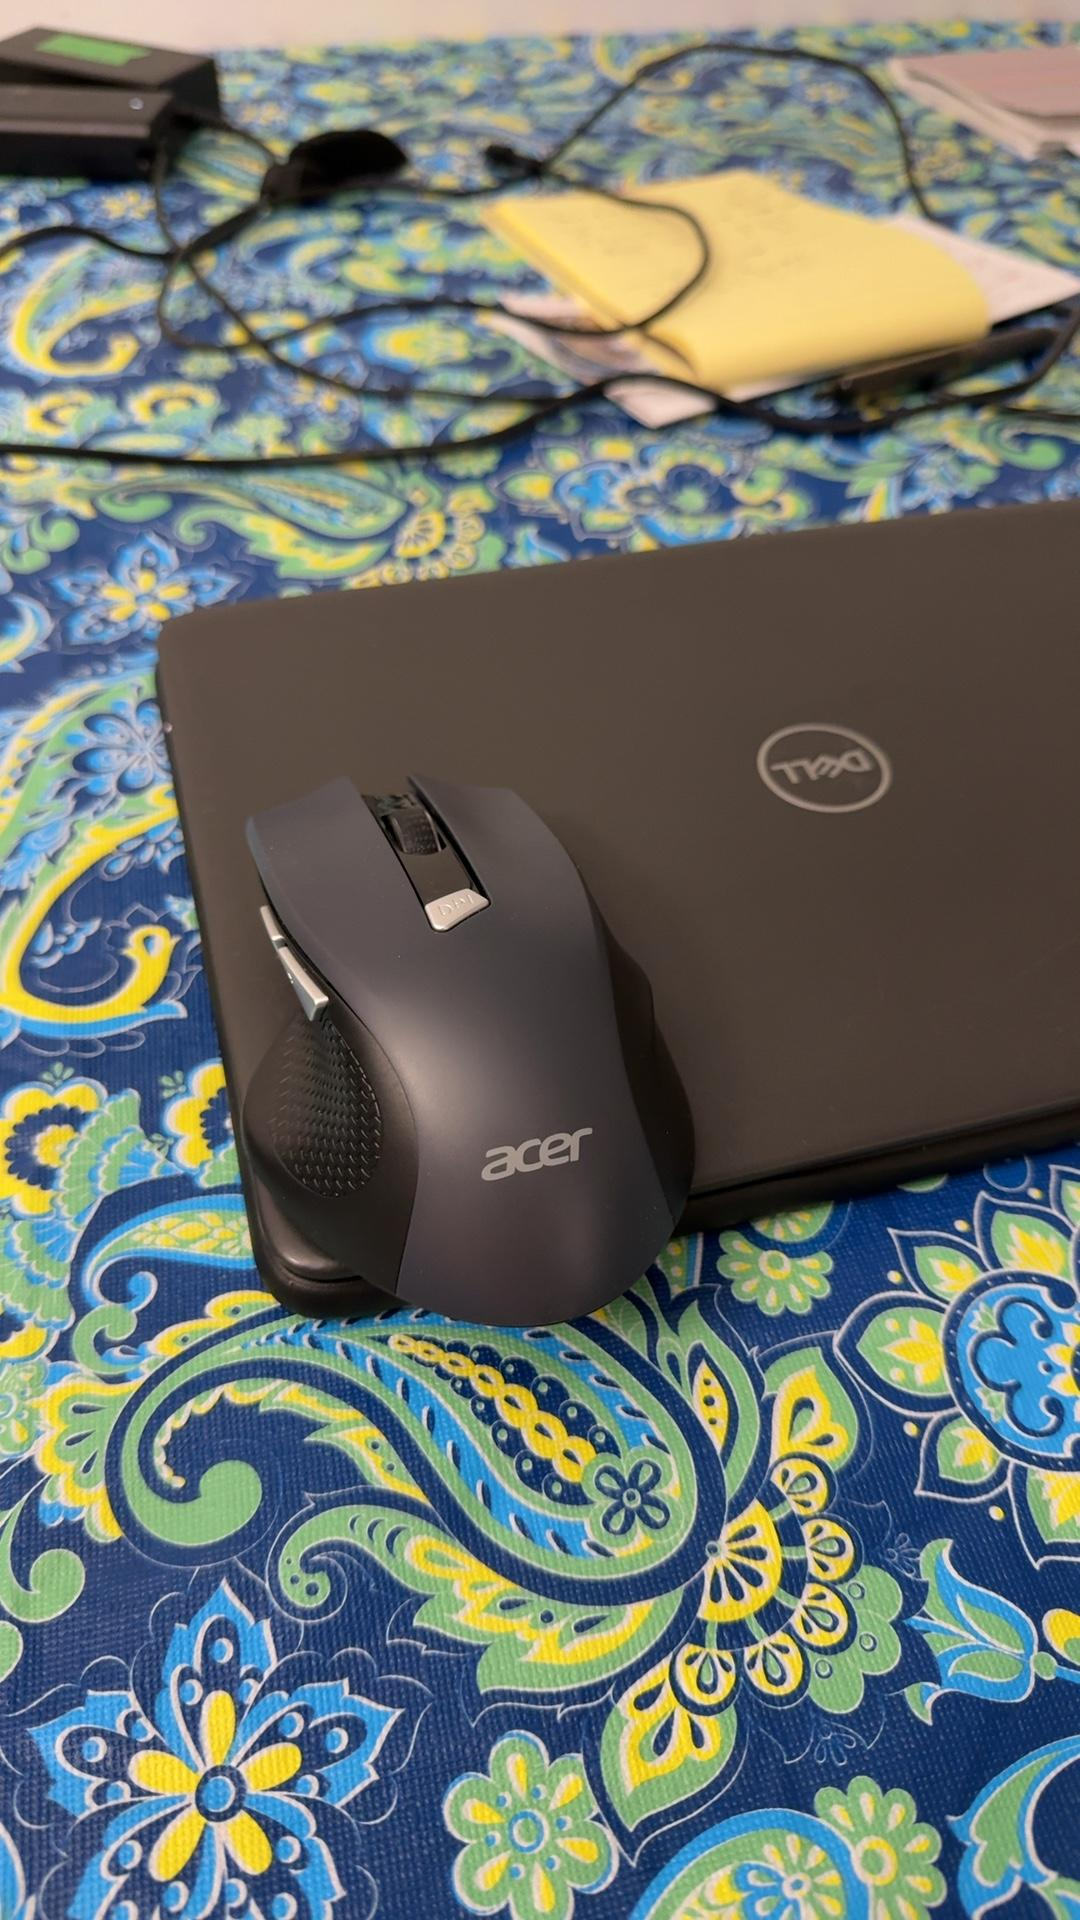Mouse: (195, 782, 708, 1348)
